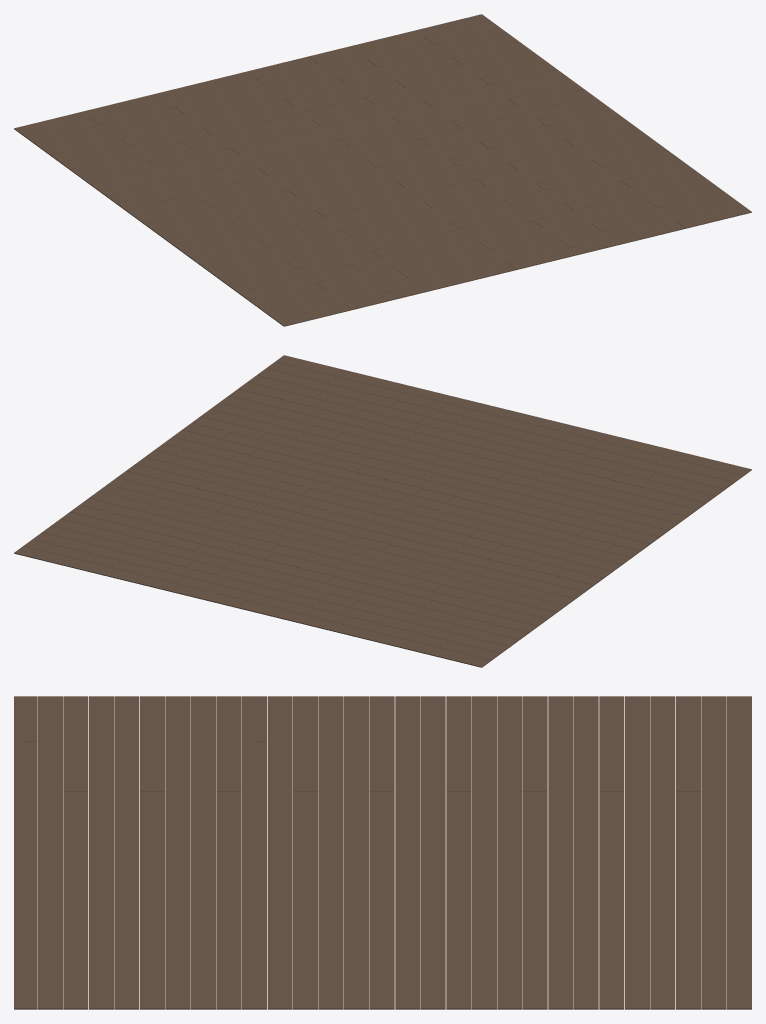
The model's file is Parquet_2.fbx.
The picture shows the model from 3 angles, top to bottom: view 1: azimuth 30°, elevation 25°; view 2: azimuth 150°, elevation 25°; view 3: azimuth 270°, elevation 25°; orthographic projection. The views are drawn at different scales.
Visible parts, largest first — view 1: Parquet_2; view 2: Parquet_2; view 3: Parquet_2.
Boxes of the visible parts, bbox=[...] form: Parquet_2: bbox=[14, 14, 751, 326]; Parquet_2: bbox=[14, 355, 751, 667]; Parquet_2: bbox=[14, 696, 751, 1009].
Bounding box in the file's own units: 486 × 486 × 0.8164.
